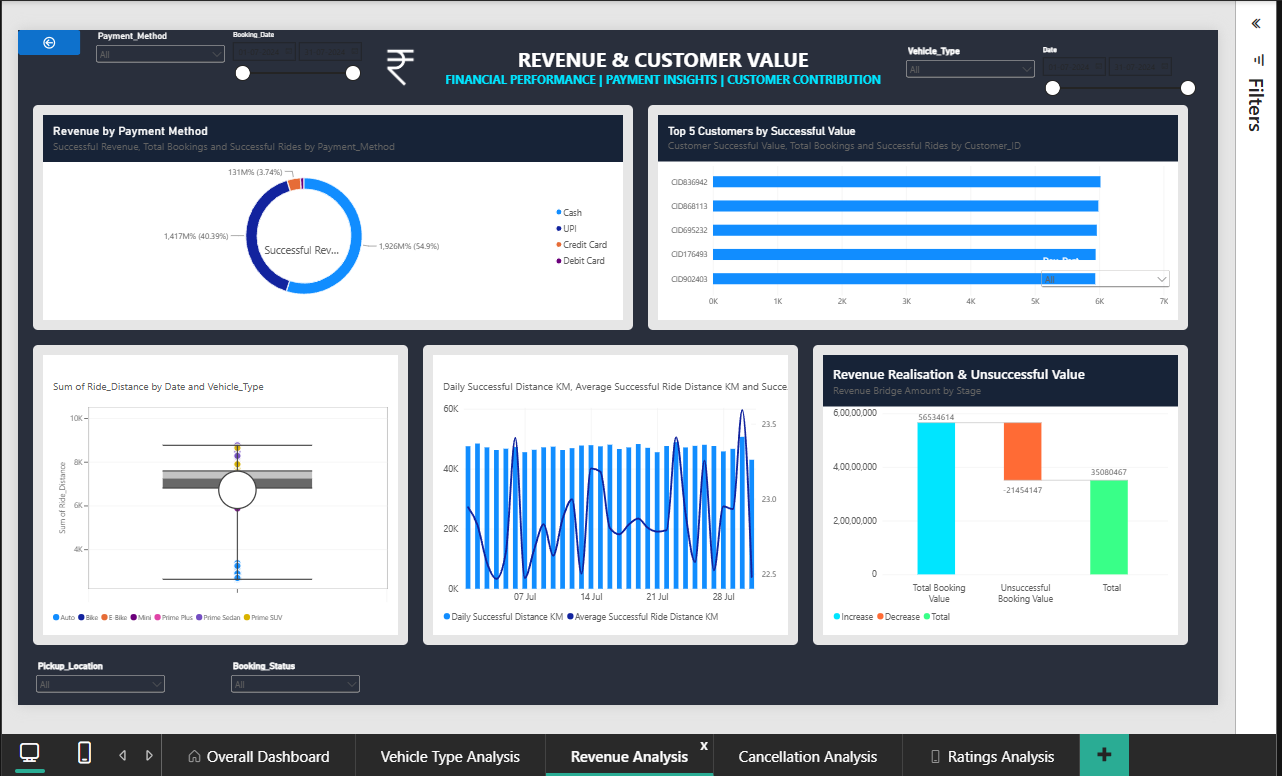

The dashboard page shown, as its layout file describes it:
{"tool":"powerbi","page":{"name":"Revenue Analysis","canvas":[1920,1080],"ordinal":2},"visuals":[{"type":"textbox","box":[672,24,720,96],"z":0},{"type":"image","box":[552,24,120,72],"z":1000},{"type":"donutChart","title":"\tRevenue by Payment Method","fields":{"Category":["ola_ride_insights ola_rides.Payment_Method"],"Y":["ola_ride_insights ola_rides.Successful Revenue"]},"box":[24,120,960,360],"z":2000},{"type":"clusteredBarChart","title":"Top 5 Customers by Successful Value","fields":{"Category":["ola_ride_insights ola_rides.Customer_ID"],"Y":["ola_ride_insights ola_rides.Customer Successful Value"]},"box":[1008,120,864,360],"z":3000},{"type":"BoxandWhiskerByMAQ1823AD39DT234AB532063E128AX","title":"Daily Successful Ride Distance Distribution","fields":{"category":["Calendar.Date"],"measure":["Sum(ola_ride_insights ola_rides.Ride_Distance)"],"categoryColor":["ola_ride_insights ola_rides.Vehicle_Type"]},"box":[24,504,600,480],"z":4000},{"type":"actionButton","box":[0,0,100,40],"z":5000},{"type":"lineClusteredColumnComboChart","title":"Daily Successful Ride Distance & Average Ride Distance","fields":{"Category":["Calendar.Date"],"Y":["ola_ride_insights ola_rides.Daily Successful Distance KM"],"Y2":["ola_ride_insights ola_rides.Average Successful Ride Distance KM"]},"box":[648,504,600,480],"z":6000},{"type":"waterfallChart","title":"Revenue Realisation & Unsuccessful Value","fields":{"Category":["Revenue Bridge.Stage"],"Y":["Revenue Bridge.Revenue Bridge Amount"]},"box":[1272,504,600,480],"z":7000},{"type":"slicer","fields":{"Values":["ola_ride_insights ola_rides.Booking_Date"]},"box":[336,0,216,96],"z":7001},{"type":"slicer","fields":{"Values":["Calendar.Date"]},"box":[1632,24,256,112],"z":7002},{"type":"slicer","fields":{"Values":["ola_ride_insights ola_rides.Vehicle_Type"]},"box":[1416,24,216,72],"z":7003},{"type":"slicer","fields":{"Values":["ola_ride_insights ola_rides.Booking_Status"]},"box":[336,1008,216,72],"z":7004},{"type":"slicer","fields":{"Values":["ola_ride_insights ola_rides.Pickup_Location"]},"box":[24,1008,216,72],"z":7005},{"type":"slicer","fields":{"Values":["ola_ride_insights ola_rides.Payment_Method"]},"box":[120,0,216,72],"z":7006},{"type":"slicer","fields":{"Values":["ola_ride_insights ola_rides.Day_Part"]},"box":[1632,360,216,72],"z":7007}]}

Visuals, with their boxes on the page's 1920x1080 design canvas (x1, y1, x2, y2). These are canvas units, not pixel positions in the 1282x776 screenshot, which may show the page scaled, cropped or inside an application window:
textbox: (x1=672, y1=24, x2=1392, y2=120)
image: (x1=552, y1=24, x2=672, y2=96)
"	Revenue by Payment Method" donutChart: (x1=24, y1=120, x2=984, y2=480)
"Top 5 Customers by Successful Value" clusteredBarChart: (x1=1008, y1=120, x2=1872, y2=480)
"Daily Successful Ride Distance Distribution" BoxandWhiskerByMAQ1823AD39DT234AB532063E128AX: (x1=24, y1=504, x2=624, y2=984)
actionButton: (x1=0, y1=0, x2=100, y2=40)
"Daily Successful Ride Distance & Average Ride Distance" lineClusteredColumnComboChart: (x1=648, y1=504, x2=1248, y2=984)
"Revenue Realisation & Unsuccessful Value" waterfallChart: (x1=1272, y1=504, x2=1872, y2=984)
slicer - ola_ride_insights ola_rides.Booking_Date: (x1=336, y1=0, x2=552, y2=96)
slicer - Calendar.Date: (x1=1632, y1=24, x2=1888, y2=136)
slicer - ola_ride_insights ola_rides.Vehicle_Type: (x1=1416, y1=24, x2=1632, y2=96)
slicer - ola_ride_insights ola_rides.Booking_Status: (x1=336, y1=1008, x2=552, y2=1080)
slicer - ola_ride_insights ola_rides.Pickup_Location: (x1=24, y1=1008, x2=240, y2=1080)
slicer - ola_ride_insights ola_rides.Payment_Method: (x1=120, y1=0, x2=336, y2=72)
slicer - ola_ride_insights ola_rides.Day_Part: (x1=1632, y1=360, x2=1848, y2=432)
